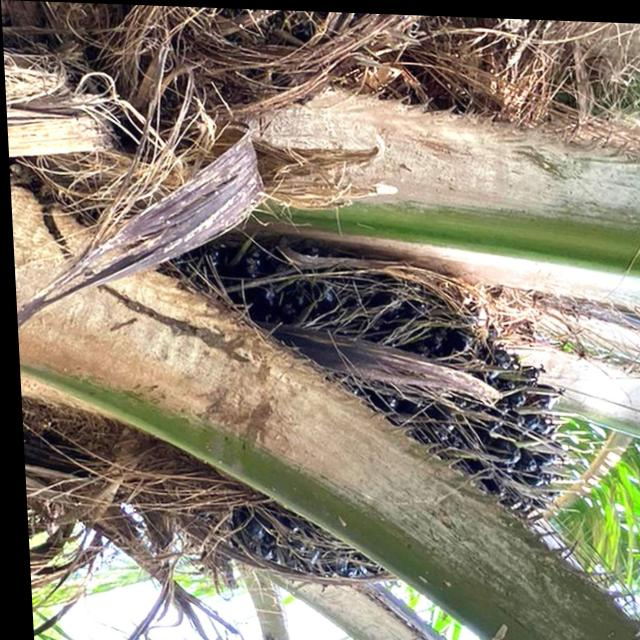unripe: (204, 251, 566, 588)
